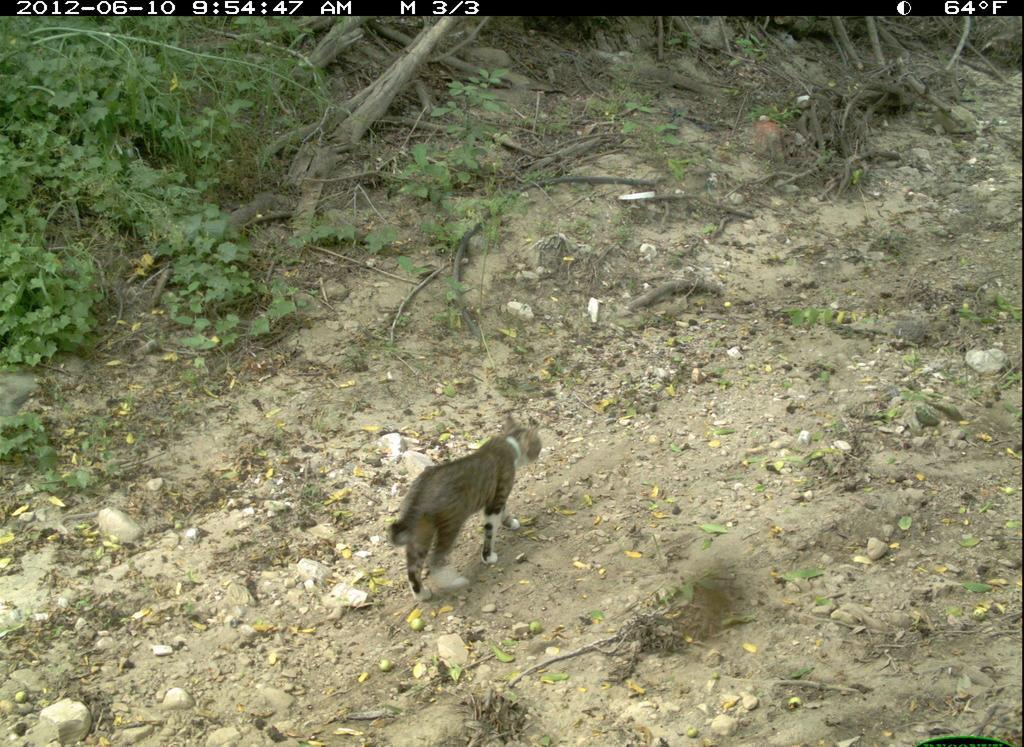cat: (374, 405, 555, 609)
